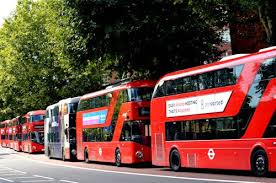bus: (149, 45, 276, 178), (74, 78, 155, 168), (43, 96, 81, 161), (21, 109, 46, 155), (11, 114, 23, 152)
